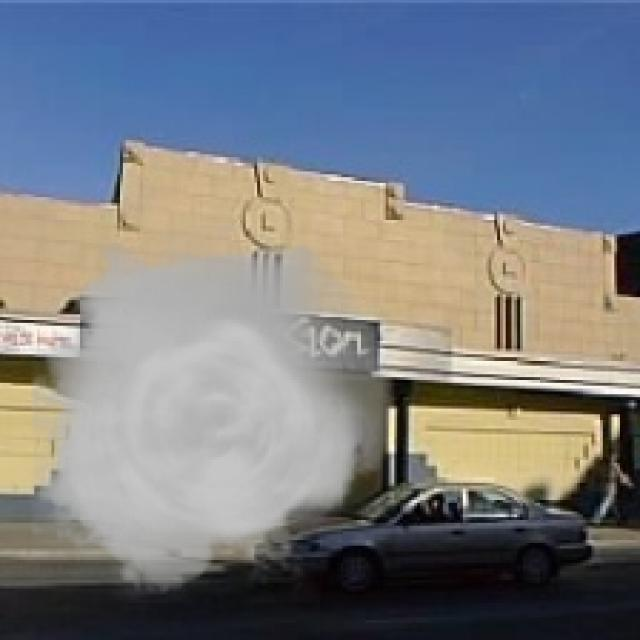Smoke: (32, 226, 394, 603)
